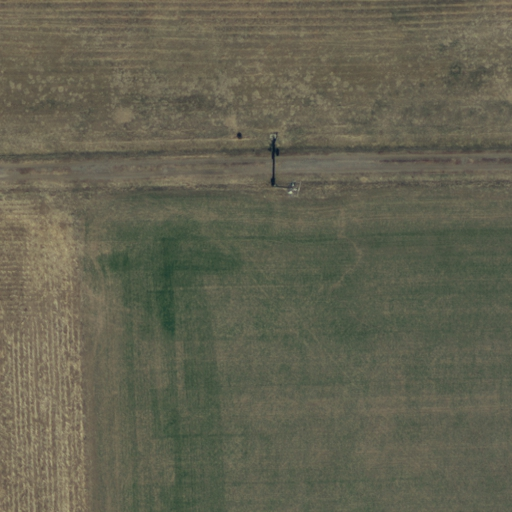DT: (268, 174, 302, 199)
